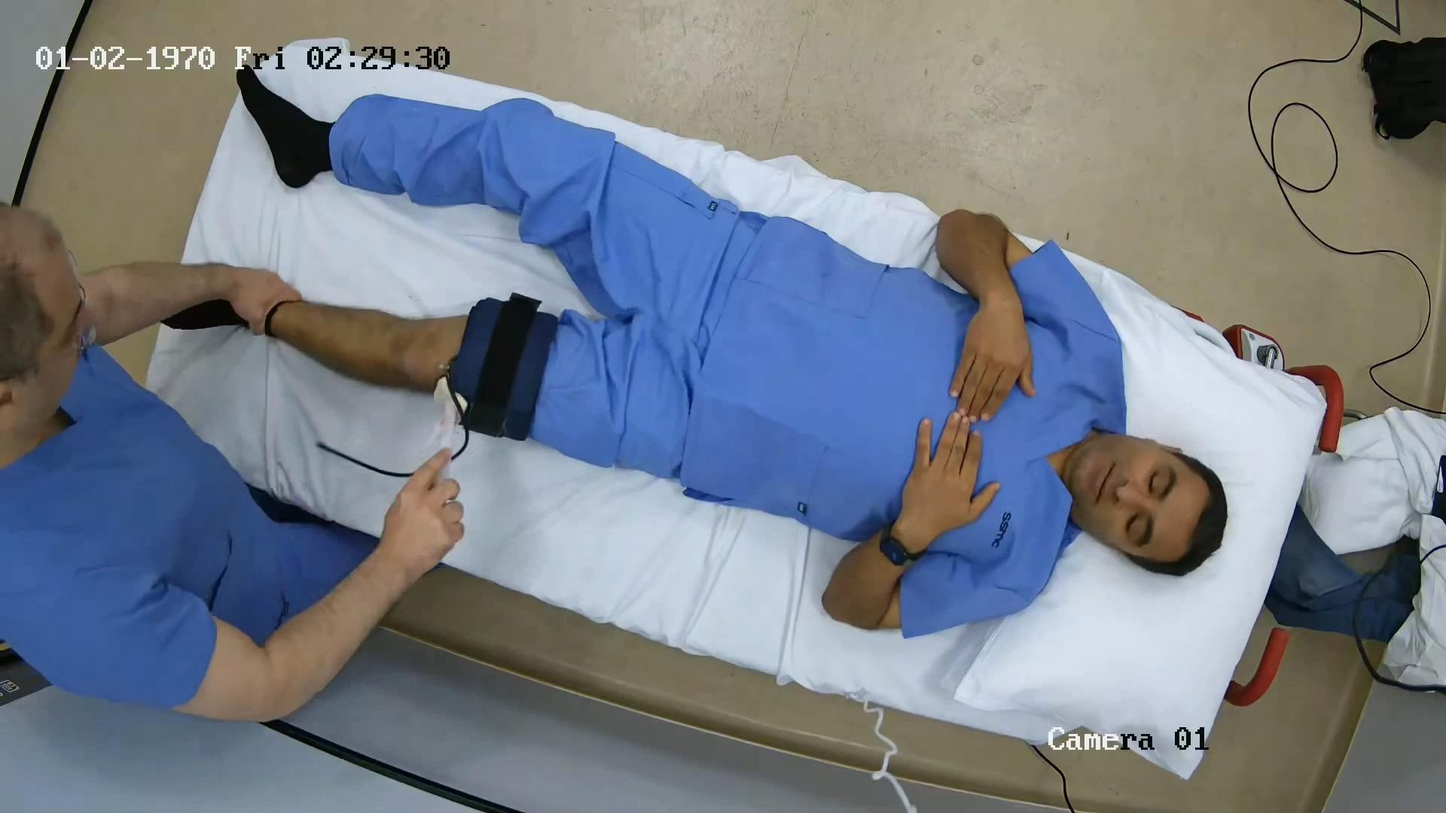patient: (136, 70, 1324, 775), (265, 96, 1225, 636)
prepstick: (432, 378, 460, 448)
tourniquet: (447, 294, 558, 440)
